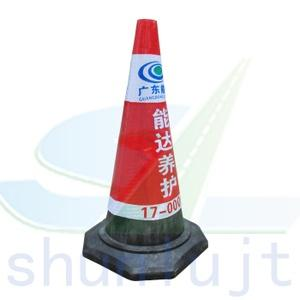cone_barrel: (87, 26, 198, 273)
